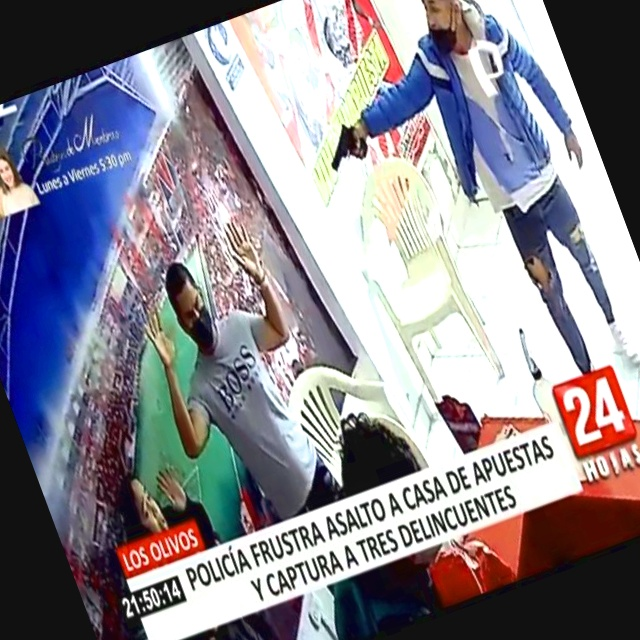gun: (298, 93, 389, 206)
